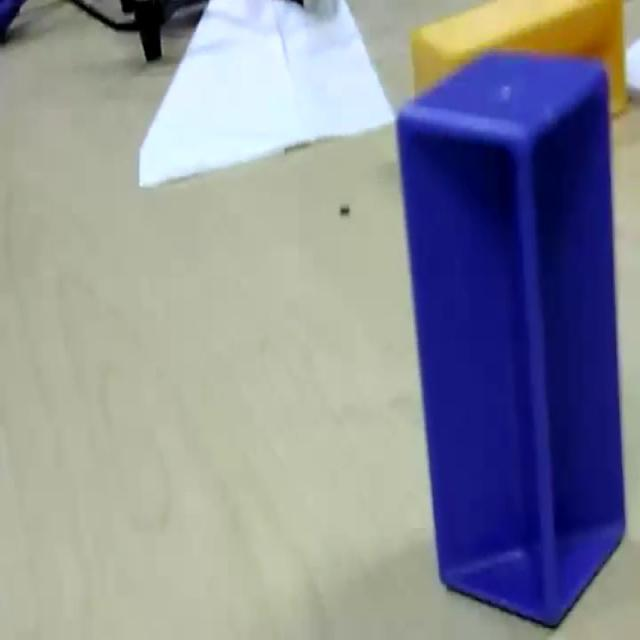blue_block: (394, 48, 627, 627)
yellow_block: (409, 0, 628, 113)
